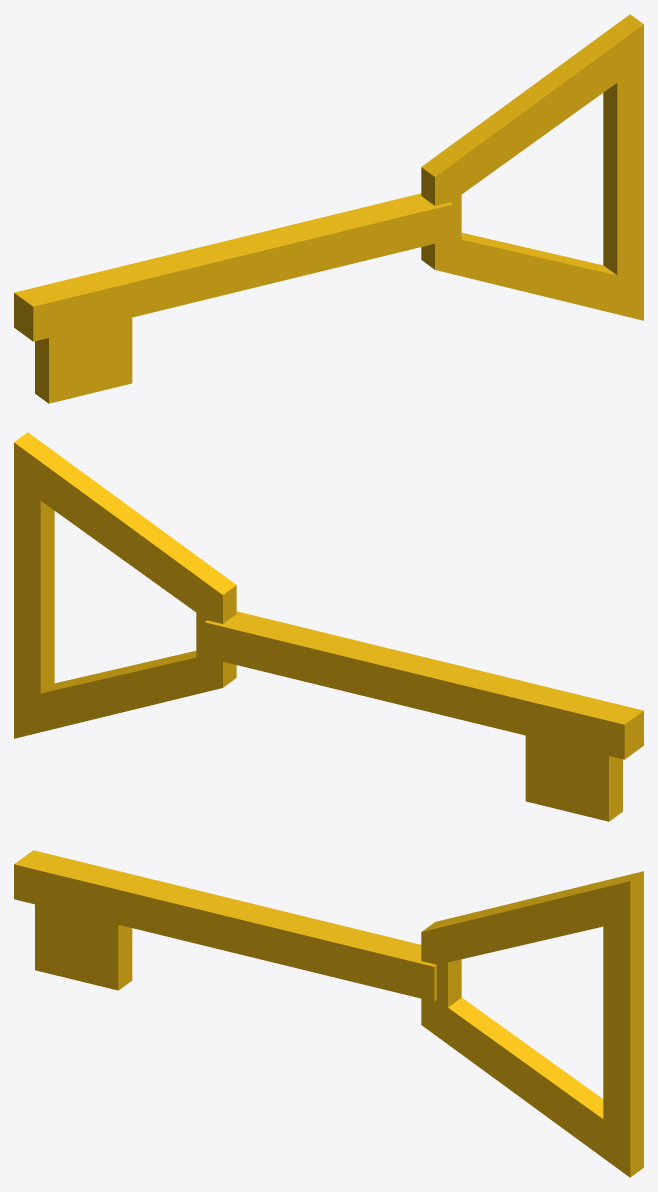
Rendered from Key.fbx.
The picture shows the model from 3 angles, top to bottom: view 1: azimuth 30°, elevation 25°; view 2: azimuth 150°, elevation 25°; view 3: azimuth 330°, elevation 25°; orthographic projection.
Visible parts, largest first — view 1: Key; view 2: Key; view 3: Key.
Boxes of the visible parts, x1=… form: Key: x1=14, y1=14, x2=643, y2=403; Key: x1=14, y1=432, x2=643, y2=821; Key: x1=14, y1=850, x2=643, y2=1177.
Bounding box in the file's own units: 147 × 67.89 × 8.
